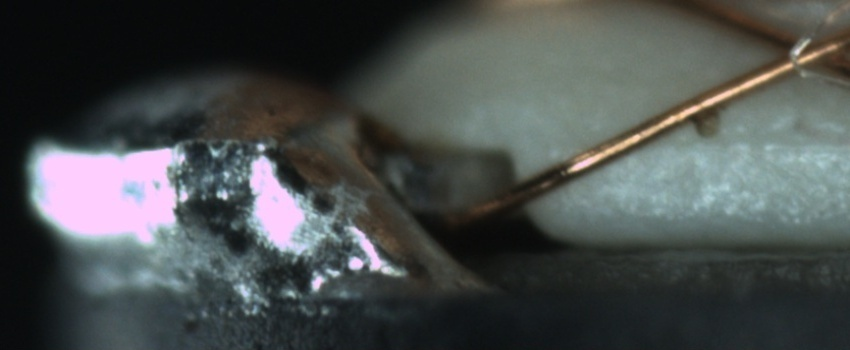CL: (755, 13, 844, 85)
DL: (669, 107, 850, 173)
